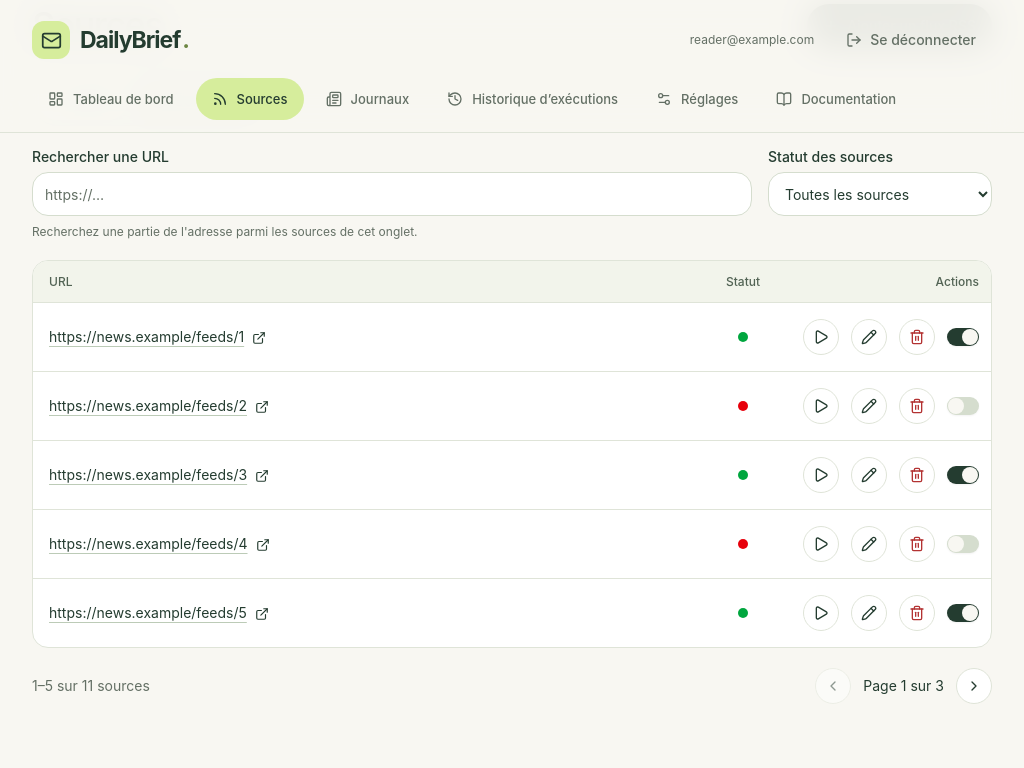
it: moves to the previous page when the last source is deleted with confirmation
(page scrolled)
Expected: the table is shown, [33,261,991,647]
Click the button named "Page suivante". click: (974, 686)
box: [956,668,992,704]
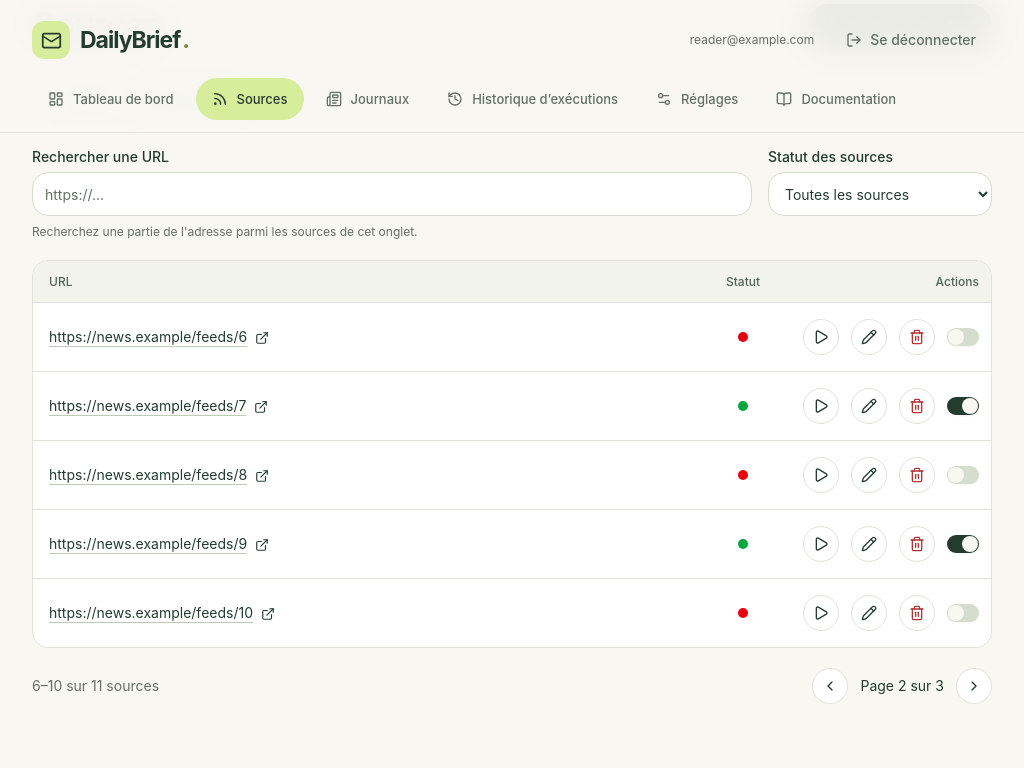
Expected: the text "Page 2 sur 3" is shown, [860,676,944,696]
Click the button named "Page suivante". click: (974, 686)
box: [956,668,992,704]
(page scrolled)
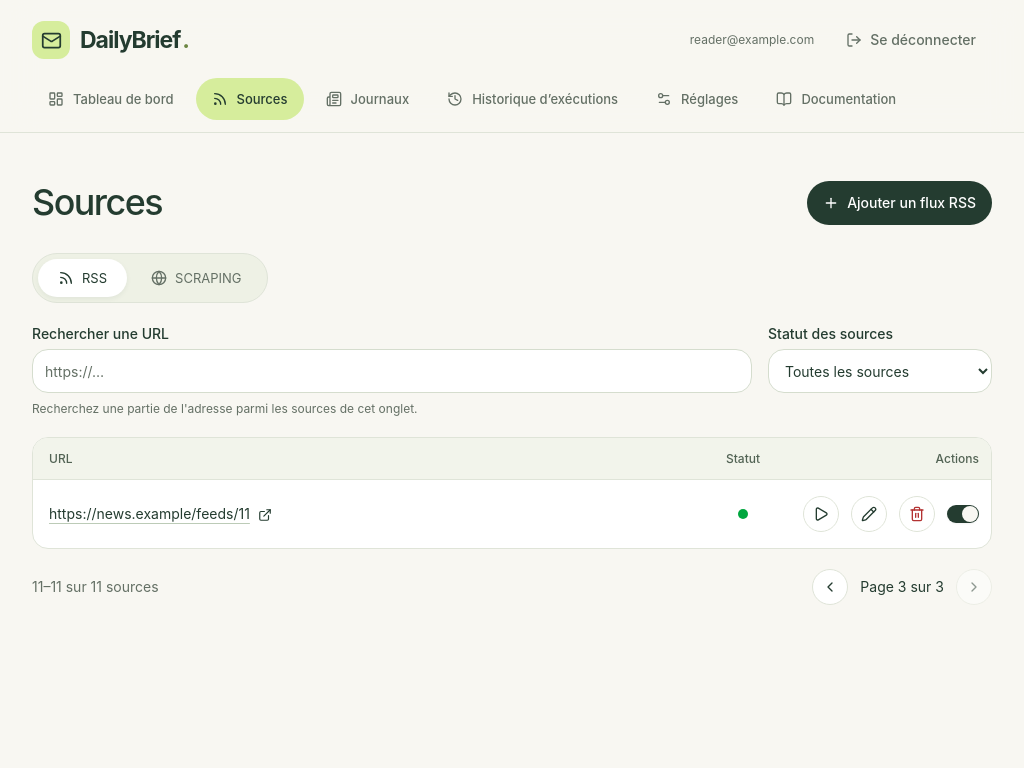
Expected: the text "Page 3 sur 3" is shown, [860,577,944,597]
Click the button named "Supprimer https://news.example/feeds/11". click: (917, 514)
box: [899,496,935,532]
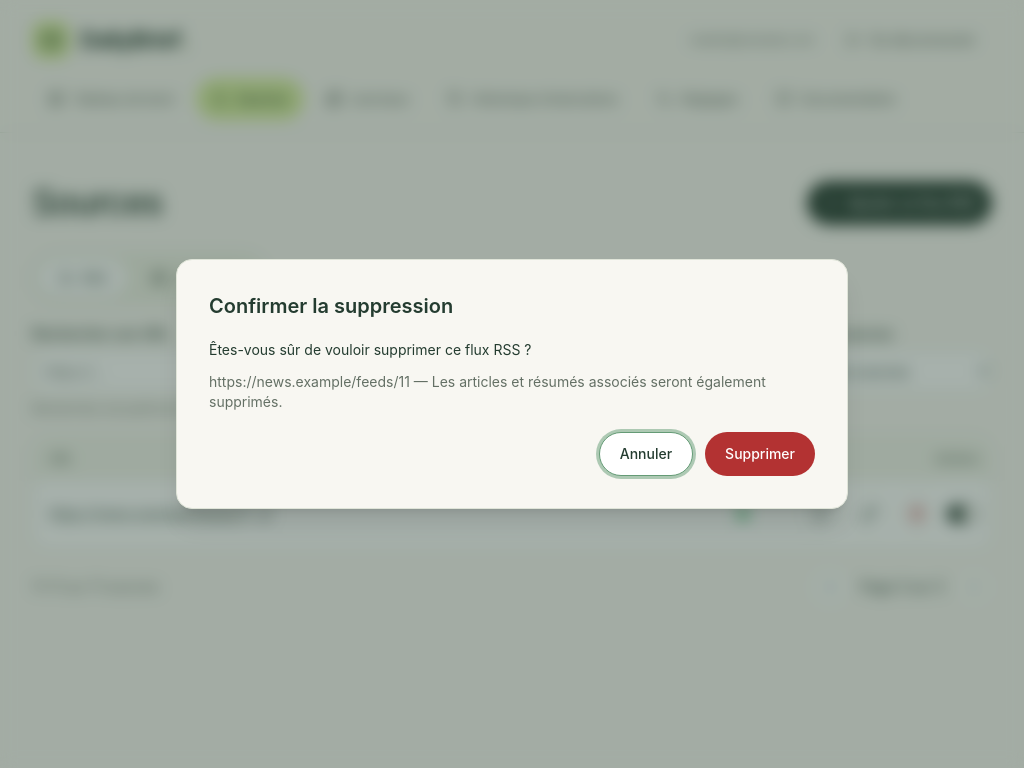
Expected: the dialog shows "Êtes-vous sûr de vouloir supprimer ce flux RSS ?", [176,259,848,509]
Click the button "Supprimer". click: (760, 454)
box: [705,432,815,476]
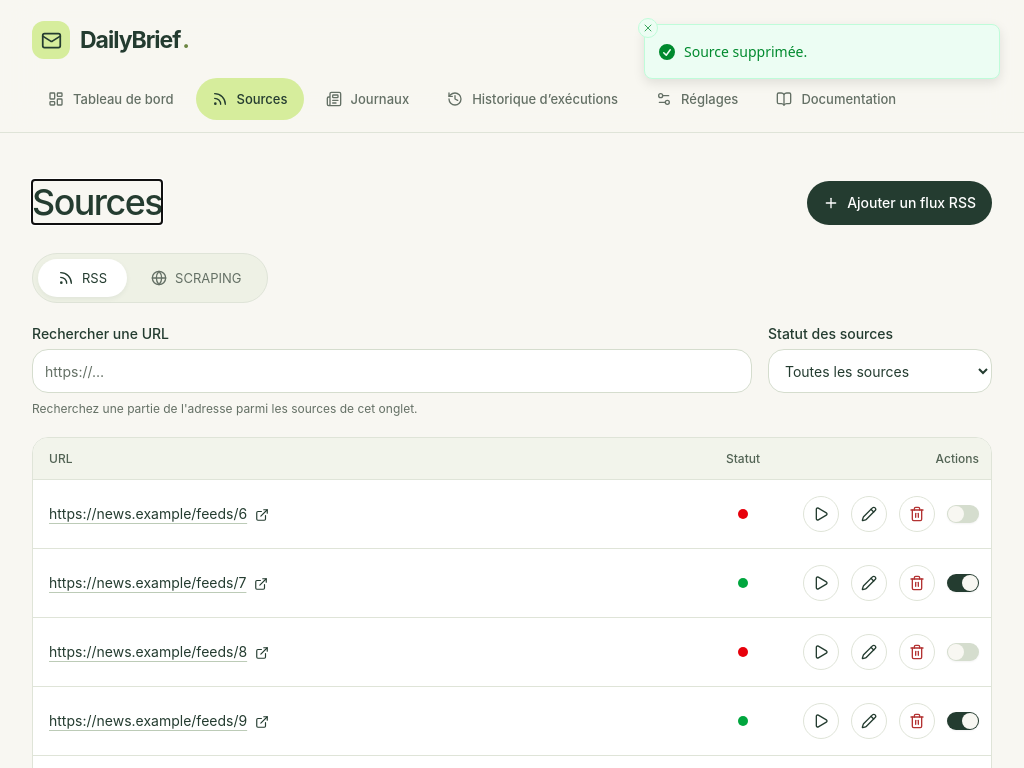
Expected: the text "Source supprimée." is shown, [684,42,807,61]
Expected: the number of links "https://news.example/feeds/6" is 5
